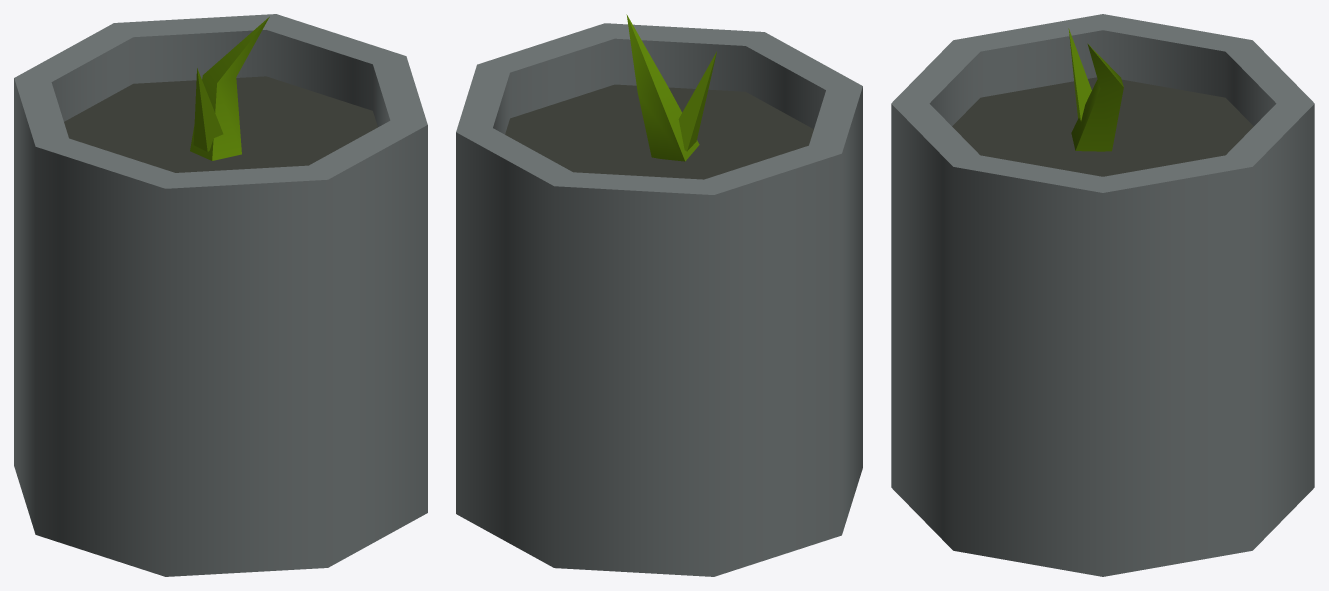
The model's file is pot_plant_04.fbx.
3 views of the same model, side by side, from view 1: azimuth 30°, elevation 25°; view 2: azimuth 150°, elevation 25°; view 3: azimuth 270°, elevation 25° (orthographic).
Visible parts, largest first — view 1: pot_plant_04; view 2: pot_plant_04; view 3: pot_plant_04.
Part boxes in pixels (x1,y1,x2,y2): pot_plant_04: (14, 14, 427, 576); pot_plant_04: (456, 14, 862, 576); pot_plant_04: (891, 14, 1314, 576).
Bounding box in the file's own units: 1.71 × 2.06 × 1.71.
